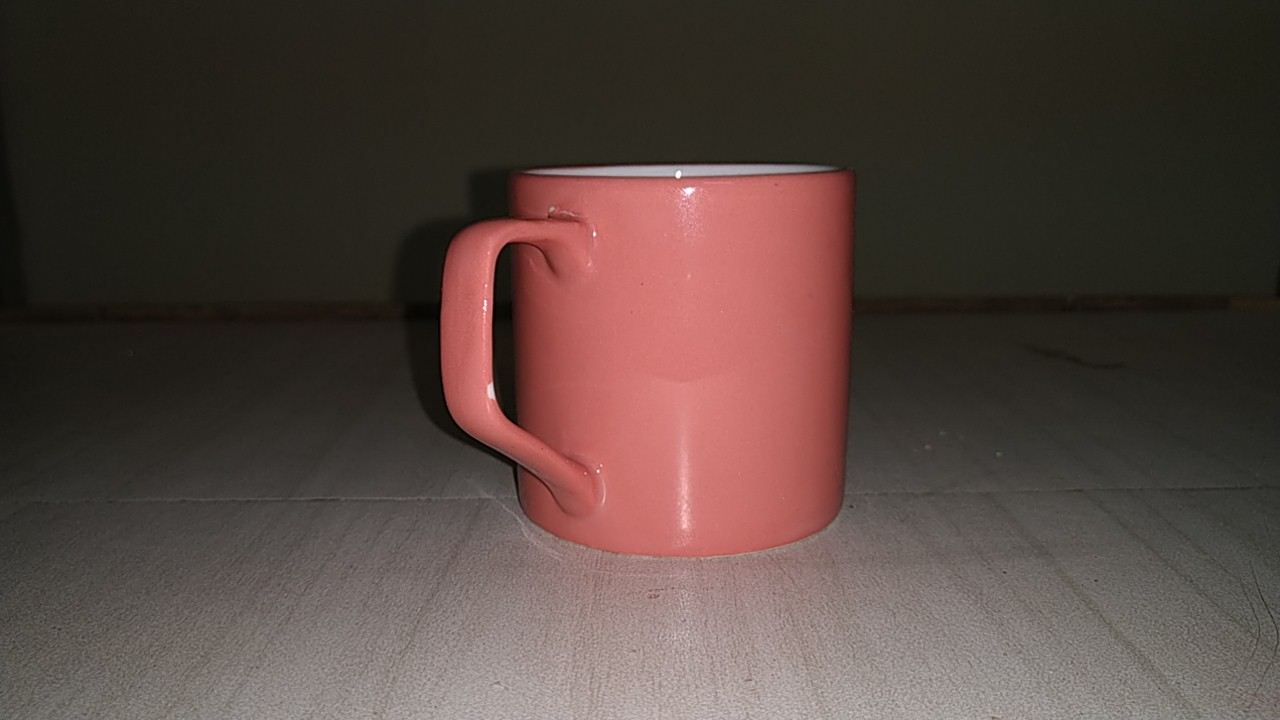cup: (409, 141, 881, 570)
